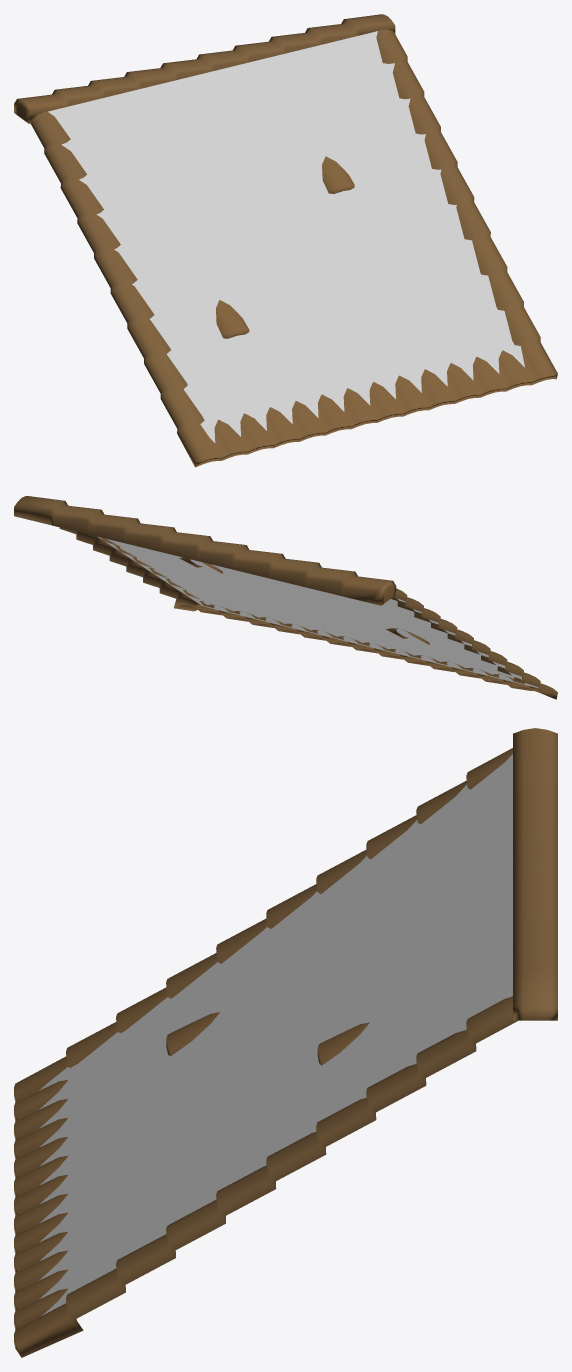
Rendered from RoofPiece.fbx.
3 renders of one model, top to bottom at view 1: azimuth 30°, elevation 25°; view 2: azimuth 150°, elevation 25°; view 3: azimuth 270°, elevation 25°, orthographic. The views are drawn at different scales.
Visible parts, largest first — view 1: Plane.030, Plane.031; view 2: Plane.031, Plane.030; view 3: Plane.030, Plane.031.
Part boxes in pixels (left/top/right/bottom): Plane.030: left=48, top=31, right=524, bottom=442; Plane.031: left=14, top=14, right=557, bottom=467; Plane.031: left=14, top=496, right=557, bottom=699; Plane.030: left=97, top=536, right=538, bottom=688; Plane.030: left=39, top=754, right=512, bottom=1315; Plane.031: left=14, top=728, right=557, bottom=1357.
Size of the model in its own units: 662 by 418 by 565.
